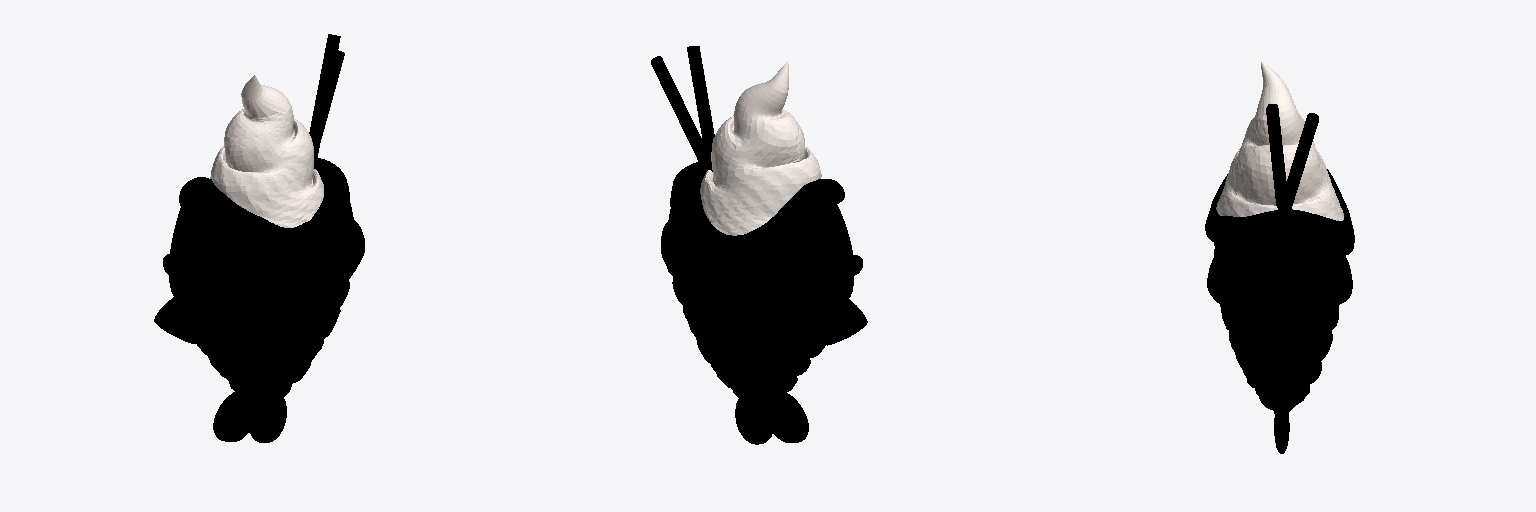
3 views of the same model, side by side, from view 1: azimuth 30°, elevation 25°; view 2: azimuth 150°, elevation 25°; view 3: azimuth 270°, elevation 25° (orthographic).
Visible parts, largest first — view 1: WipCream; view 2: WipCream; view 3: WipCream.
Part boxes in pixels (x1,y1,x2,y2): WipCream: (154,34,364,442); WipCream: (651,46,867,444); WipCream: (1205,61,1354,453).
Size of the model in its own units: 1.79 by 3.26 by 1.16.
6 materials, 1 textured.